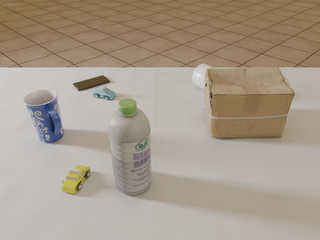bottle: (108, 99, 151, 195)
box: (204, 67, 294, 138)
cup: (23, 89, 64, 142), (192, 64, 214, 89)
phone: (73, 75, 110, 91)
toy_car: (62, 165, 90, 194), (93, 86, 116, 100)
